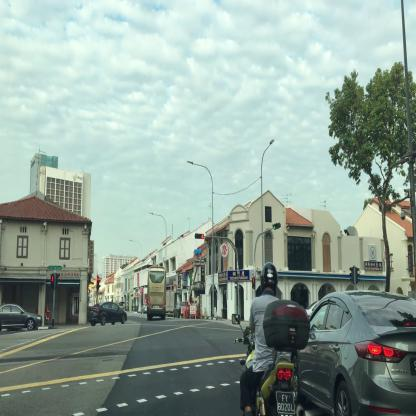red_traffic_light: (195, 234, 203, 238), (97, 277, 98, 290)
